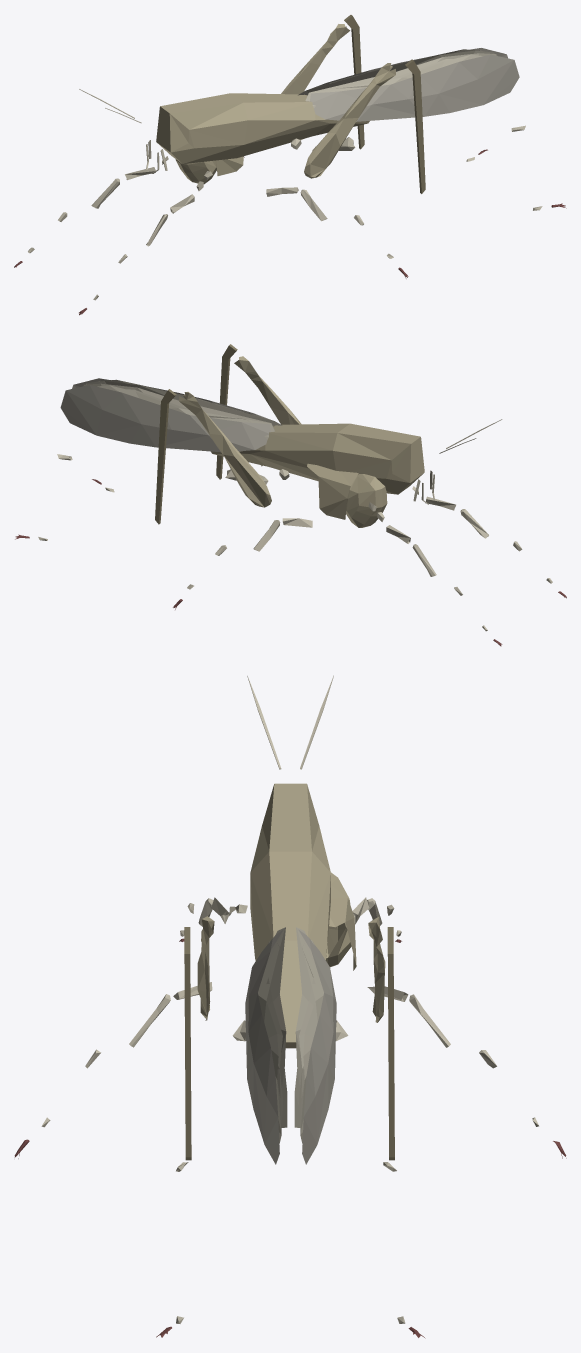
The model's file is gafanhoto.fbx.
3 renders of one model, top to bottom at view 1: azimuth 30°, elevation 25°; view 2: azimuth 150°, elevation 25°; view 3: azimuth 270°, elevation 25°, orthographic. The views are drawn at different scales.
Parts seen in each view (by area): view 1: GHOPBODY, GHOPFLIF, GHOPJAMI, GHOPJAMD, GHOPSERI, GHOPMAIN, GHOPFLD30, GHOPSERD, GHOPFLI1, GHOPFLI3; view 2: GHOPBODY, GHOPFLDF, GHOPMAIN, GHOPJAMD, GHOPSERD, GHOPJAMI, GHOPFLI3, GHOPSERI, GHOPFLD1, GHOPFLD30; view 3: GHOPBODY, GHOPFLDF, GHOPFLIF, GHOPMAIN, GHOPSERI, GHOPSERD, GHOPFLD1, GHOPFLI1, GHOPFLD30, GHOPFLI3, GHOPJAMI, GHOPJAMD.
Part boxes in pixels (bbox=[...]): GHOPBODY: bbox=[156, 93, 369, 163]; GHOPFLIF: bbox=[310, 54, 519, 121]; GHOPJAMI: bbox=[304, 63, 395, 178]; GHOPJAMD: bbox=[281, 24, 350, 94]; GHOPSERI: bbox=[405, 59, 425, 193]; GHOPMAIN: bbox=[175, 156, 243, 184]; GHOPFLD30: bbox=[298, 50, 494, 95]; GHOPSERD: bbox=[344, 15, 364, 149]; GHOPFLI1: bbox=[306, 54, 482, 107]; GHOPFLI3: bbox=[305, 53, 496, 100]; GHOPBODY: bbox=[210, 423, 424, 494]; GHOPFLDF: bbox=[60, 385, 270, 452]; GHOPMAIN: bbox=[307, 463, 387, 527]; GHOPJAMD: bbox=[179, 392, 271, 507]; GHOPSERD: bbox=[155, 389, 176, 524]; GHOPJAMI: bbox=[234, 356, 301, 424]; GHOPFLI3: bbox=[86, 381, 282, 425]; GHOPSERI: bbox=[216, 344, 237, 479]; GHOPFLD1: bbox=[97, 385, 274, 439]; GHOPFLD30: bbox=[83, 383, 274, 430]; GHOPBODY: bbox=[250, 783, 330, 1048]; GHOPFLDF: bbox=[298, 929, 336, 1164]; GHOPFLIF: bbox=[245, 929, 283, 1164]; GHOPMAIN: bbox=[326, 872, 356, 970]; GHOPSERI: bbox=[184, 927, 191, 1160]; GHOPSERD: bbox=[387, 927, 394, 1160]; GHOPFLD1: bbox=[297, 928, 323, 1143]; GHOPFLI1: bbox=[258, 928, 284, 1143]; GHOPFLD30: bbox=[294, 927, 311, 1127]; GHOPFLI3: bbox=[270, 927, 287, 1127]; GHOPJAMI: bbox=[197, 916, 214, 1020]; GHOPJAMD: bbox=[368, 916, 385, 1022].
Bounding box in the file's own units: 1.37 × 0.5124 × 0.8216.
